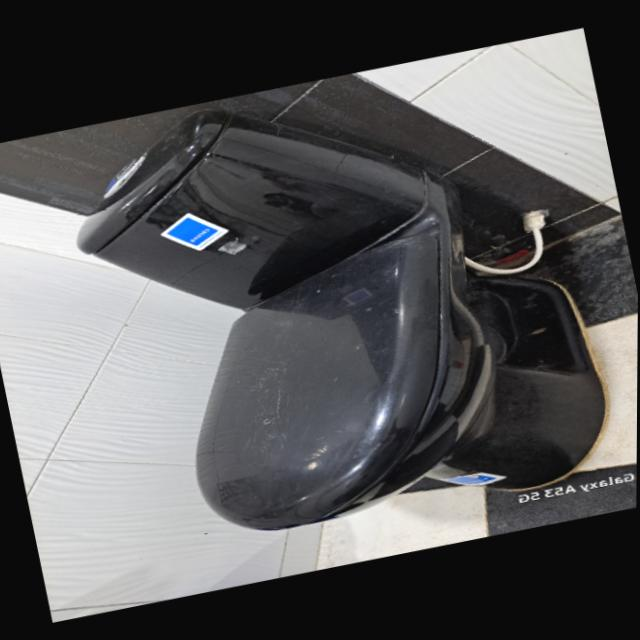toilet: (52, 35, 625, 570)
